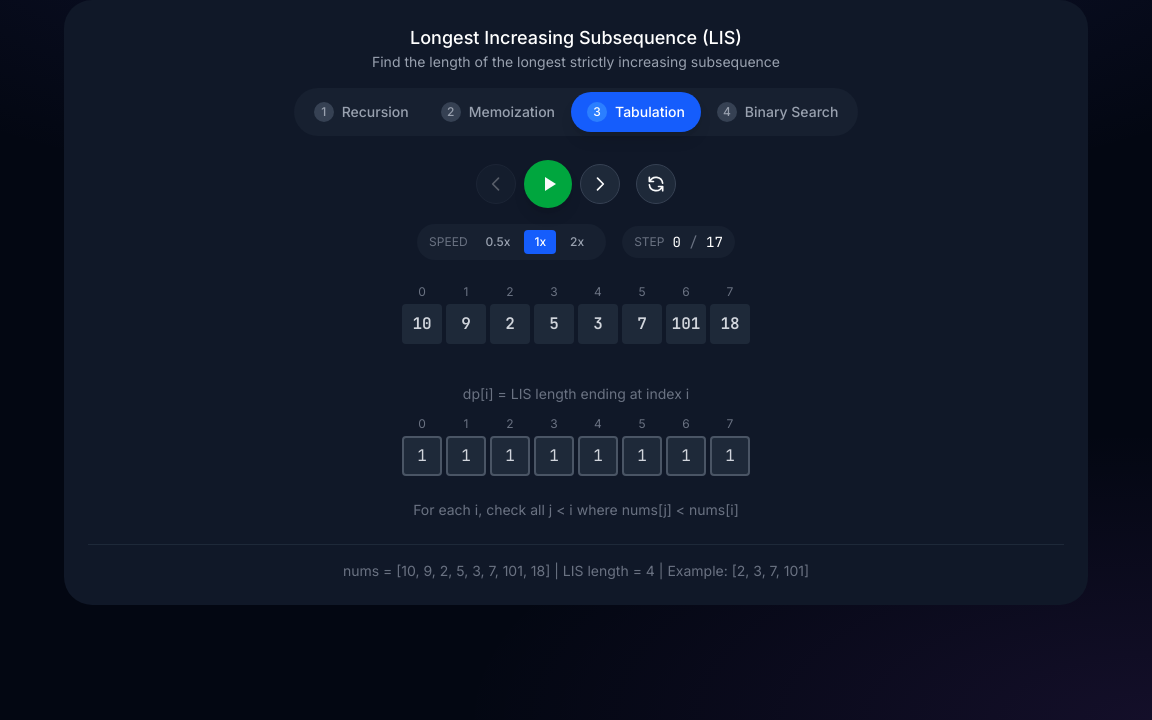
Test: Dynamic programming visualizers › LISVisualizer renders tabulation and binary-search phases
This screenshot has width=1152, height=720.
Expected: the text "Longest Increasing Subsequence (LIS)" is shown, [410, 27, 742, 48]
What coordinates should you click on to do the following:
click the button "4 Binary Search"
I would click on:
 (778, 112)
Its box is [701, 92, 854, 132].
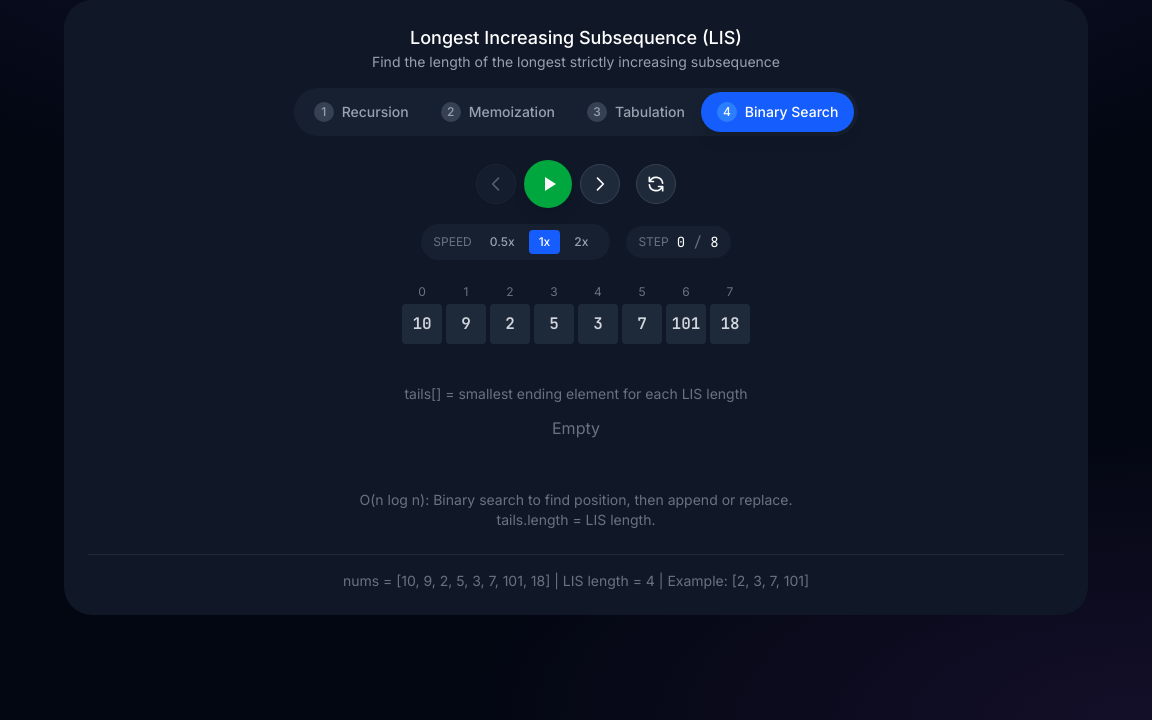
Result: the text "tails" is shown at [404, 385, 748, 402]
